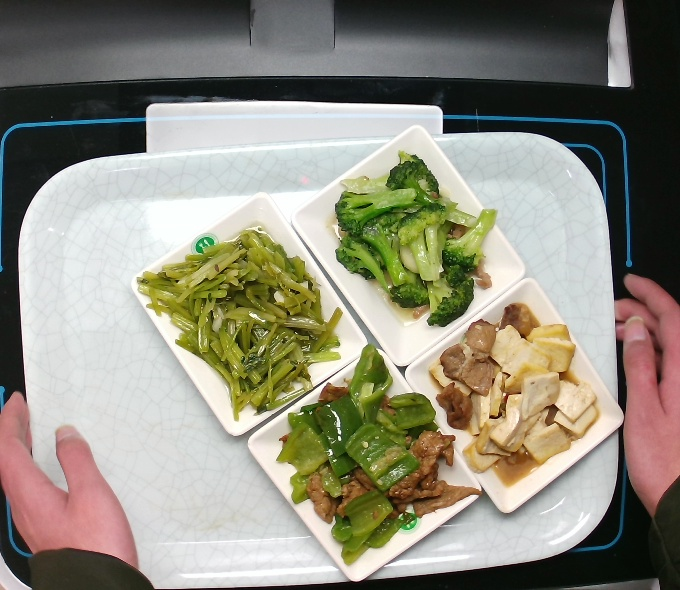wcq-DouFuRouPian: (414, 299, 606, 478)
wcq-QinCai: (136, 230, 347, 416)
wcq-QingJiaoChaoRou: (279, 376, 482, 555)
wcq-XiLanHua: (335, 146, 513, 322)
